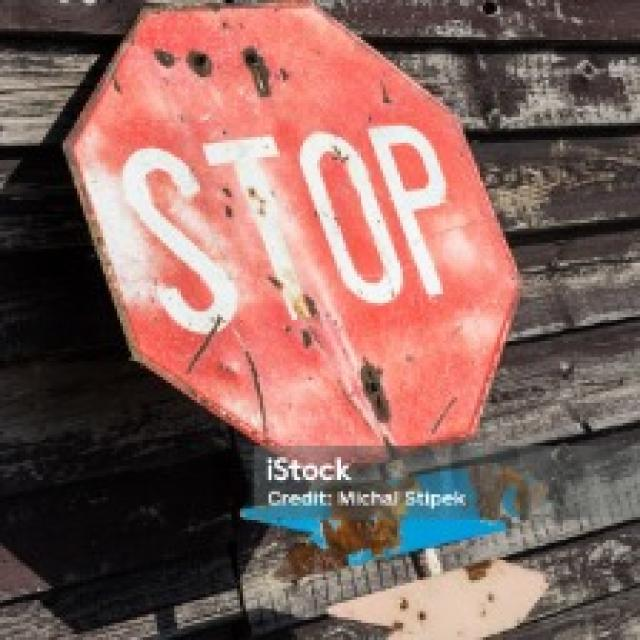stop: (59, 2, 522, 466)
